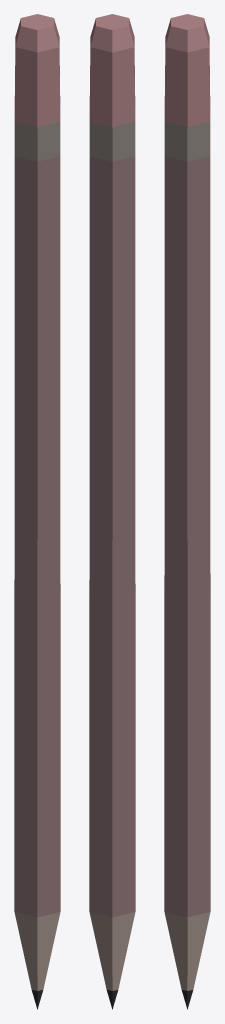
File: proj_pencil.obj
3 renders of one model, left to right at view 1: azimuth 30°, elevation 25°; view 2: azimuth 210°, elevation 25°; view 3: azimuth 330°, elevation 25°, orthographic.
Visible parts, largest first — view 1: pencil; view 2: pencil; view 3: pencil.
Part boxes in pixels (x1=…): pencil: x1=14, y1=14, x2=60, y2=1009; pencil: x1=89, y1=14, x2=135, y2=1009; pencil: x1=164, y1=14, x2=210, y2=1009.
Bounding box in the file's own units: 0.00855 × 0.175 × 0.0074.
